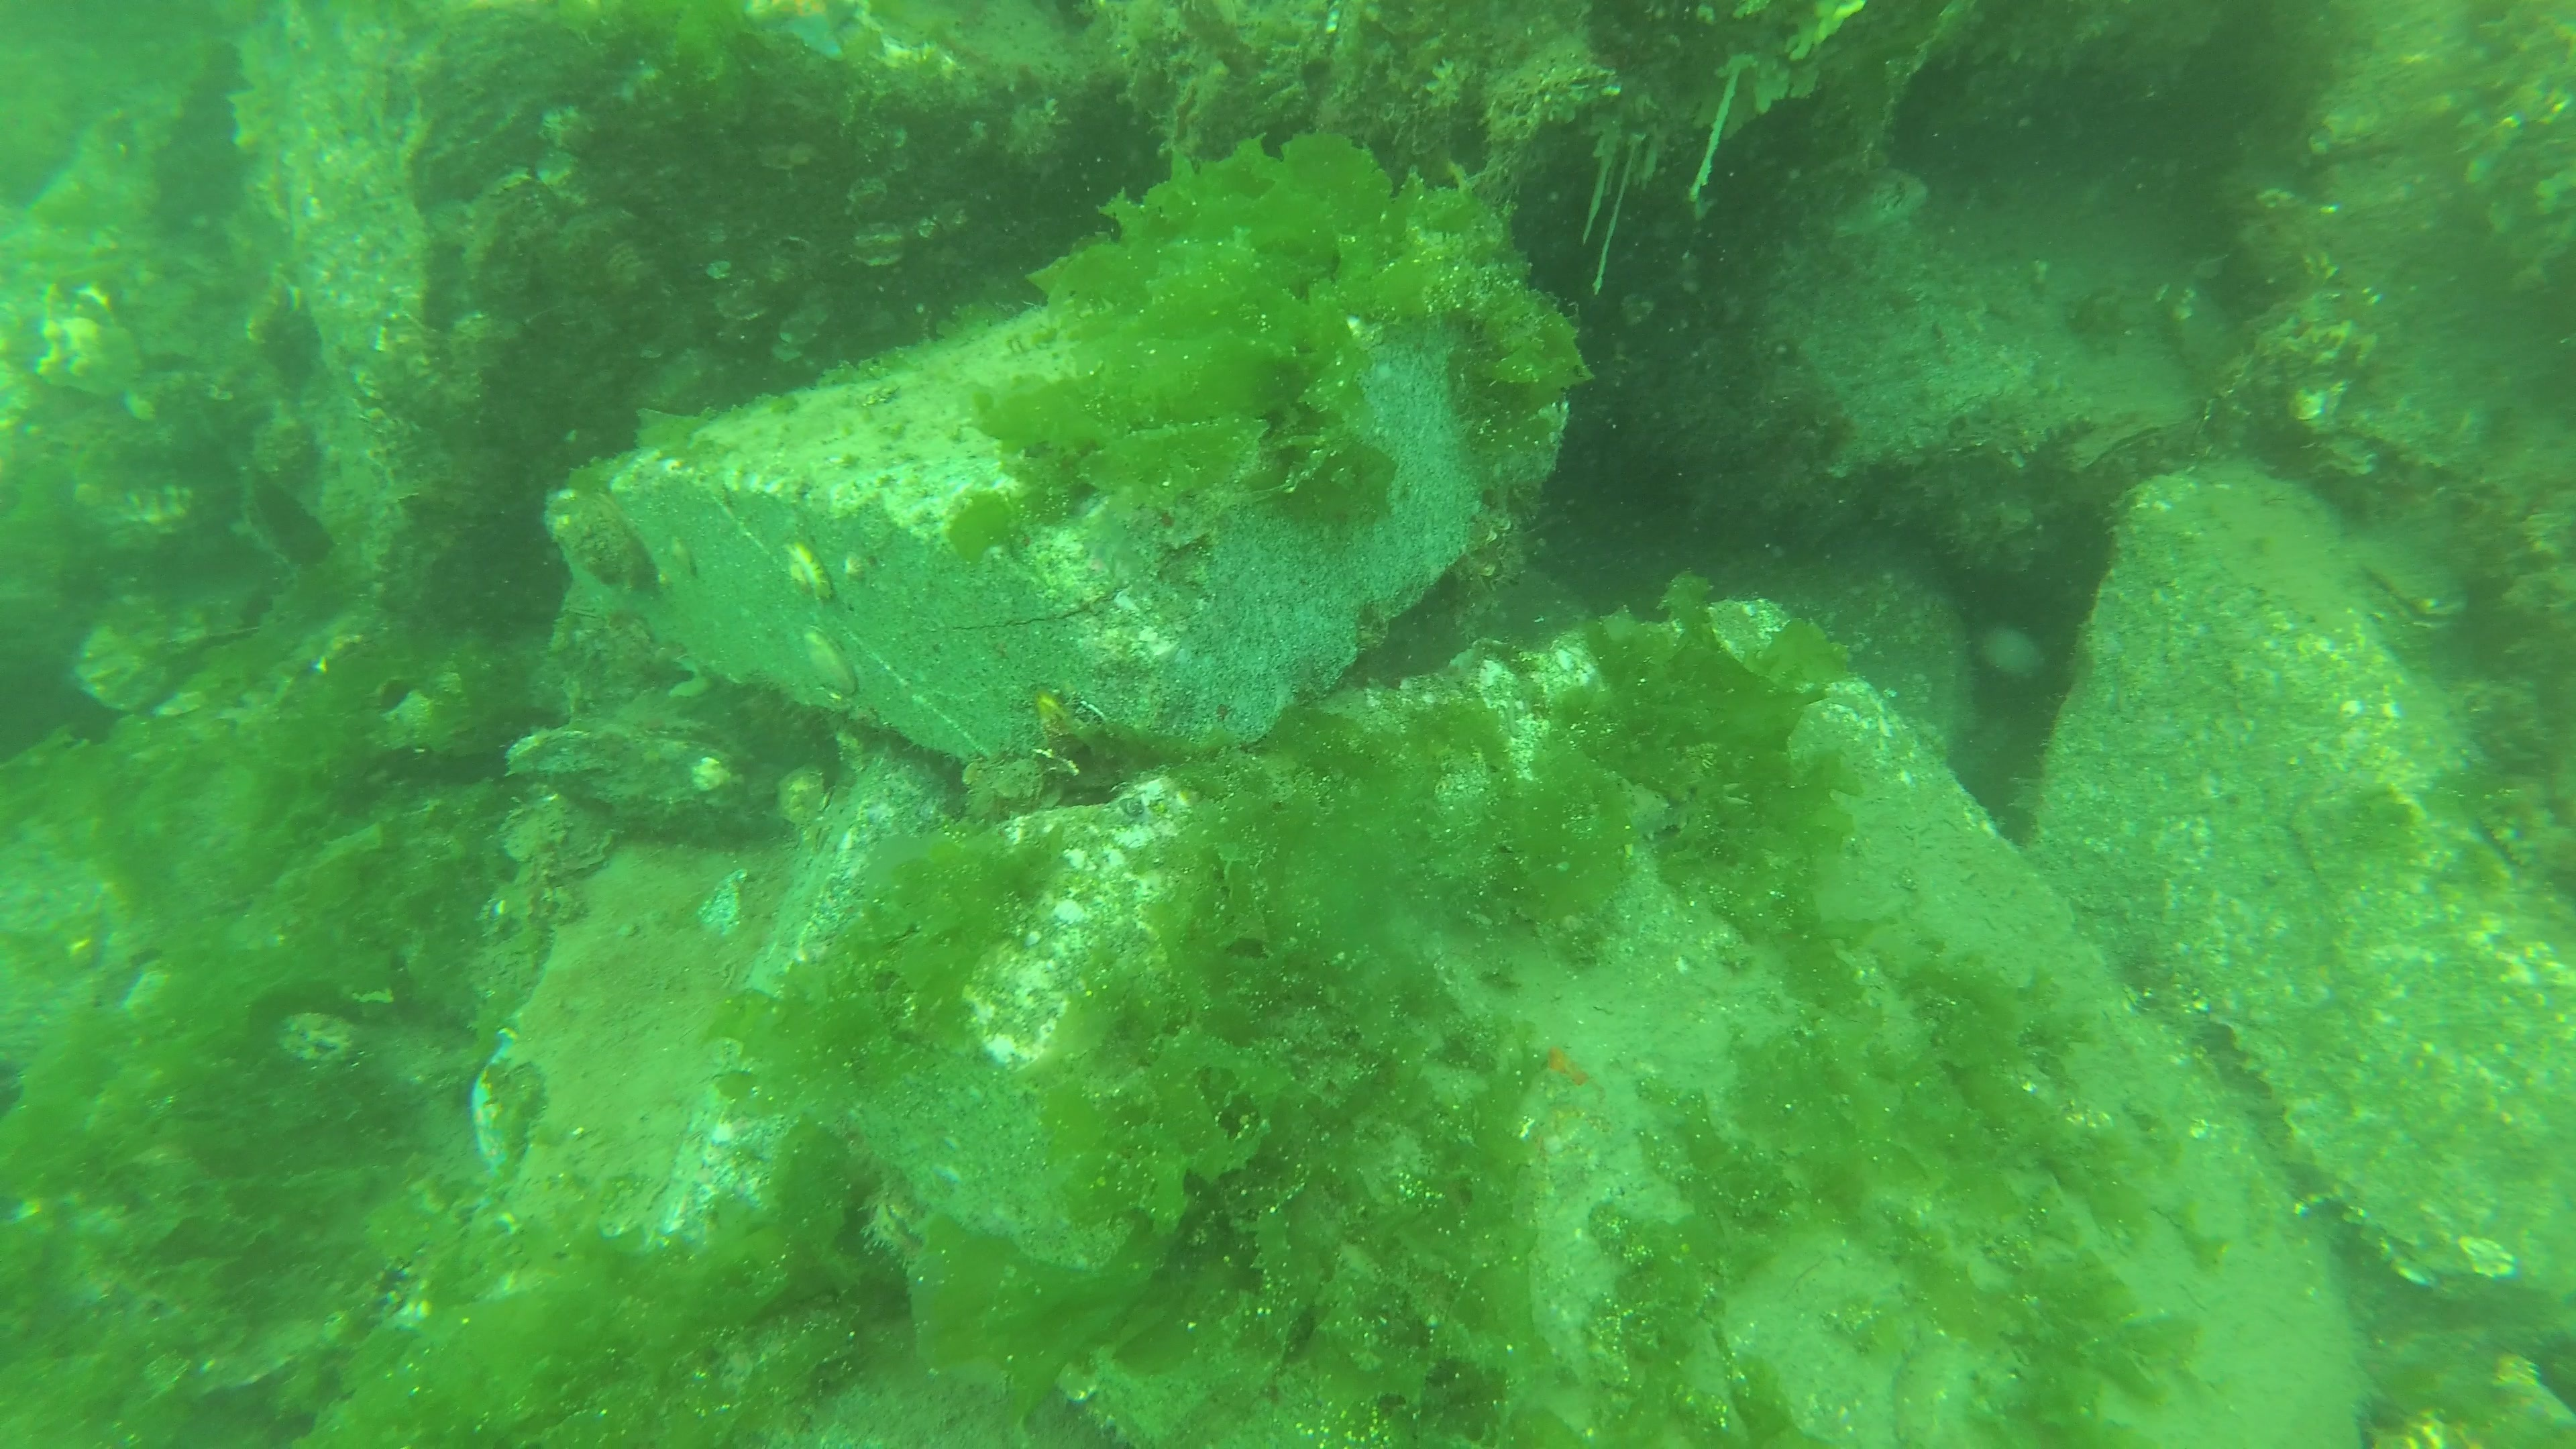starfish: (465, 1021, 529, 1189), (740, 0, 865, 64)
